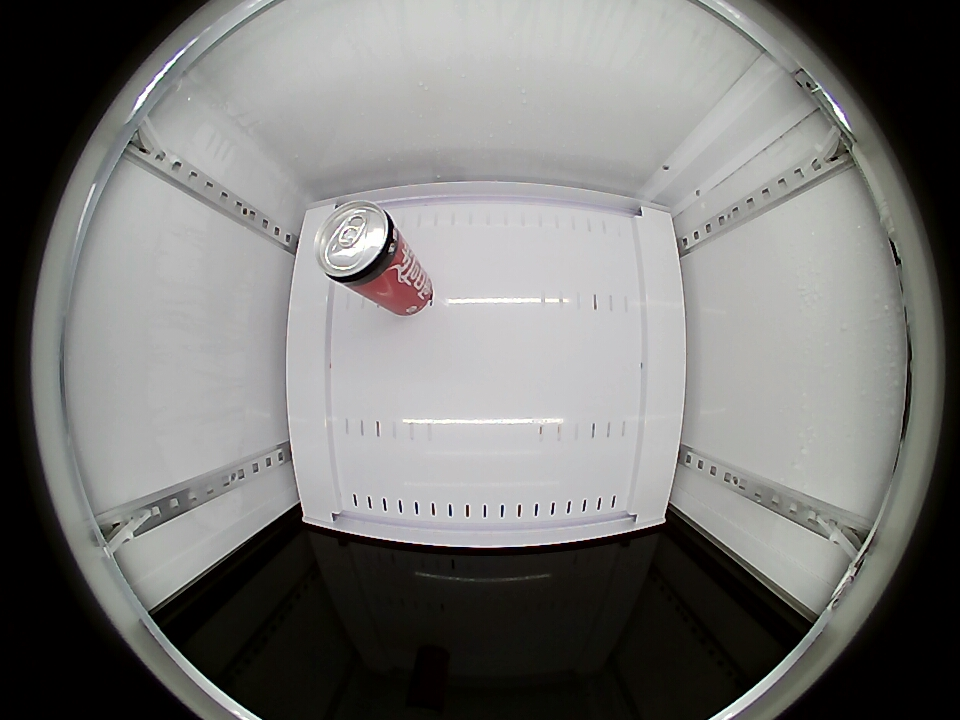lingdukele: (315, 201, 406, 290)
